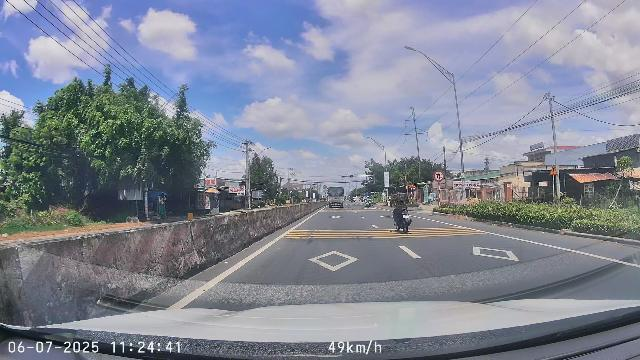124b-cam-oto-quay-dau-xe: (433, 170, 444, 182)
